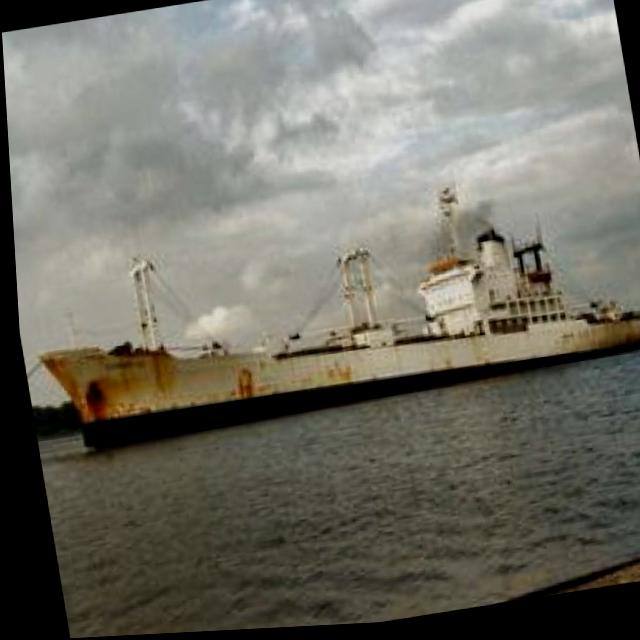ship2: (36, 190, 640, 449)
